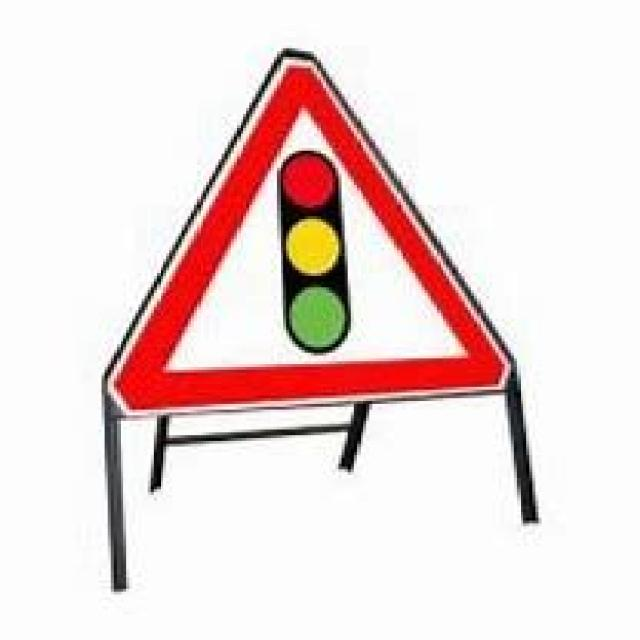TRAFFIC_SIGNAL: (93, 34, 543, 420)
